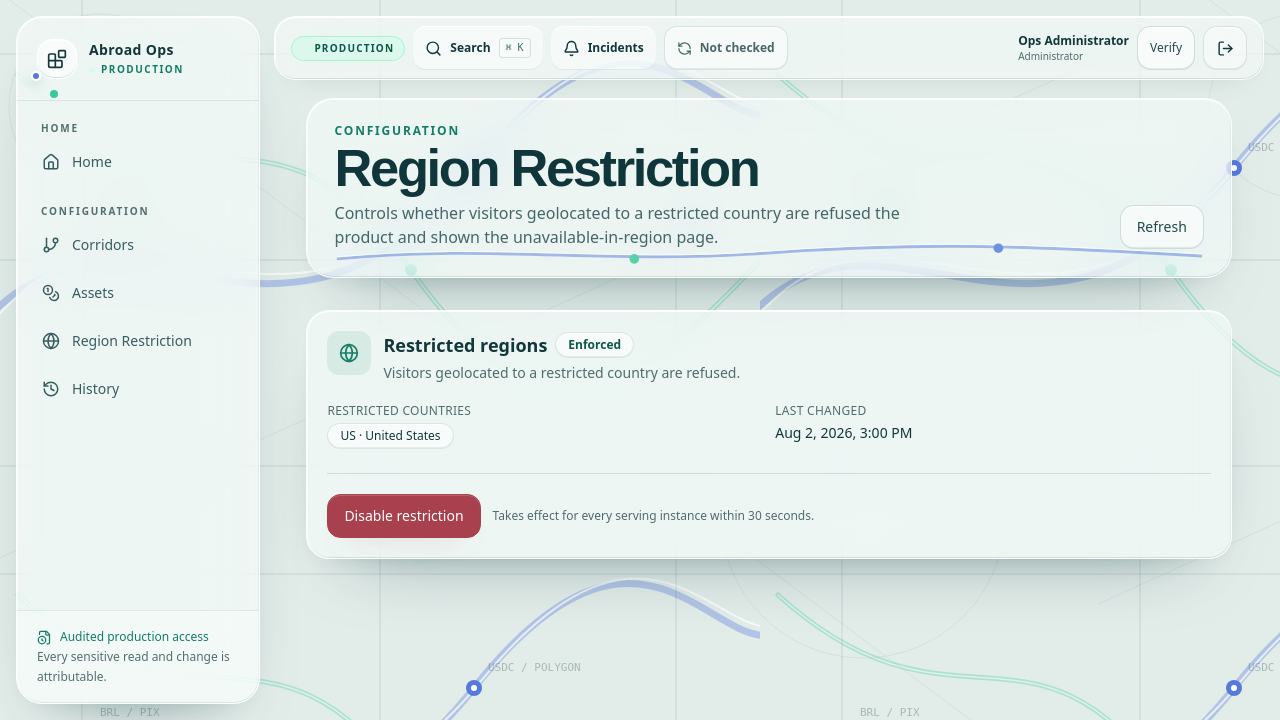
GeoRestriction page › disables an enforced restriction and sends the loaded version
The width and height of the screenshot is (1280, 720).
Expected: the text "Enforced" is shown, [555,332,634,358]
Click the button "Disable restriction" at [404, 516], box [327,494,481,538]
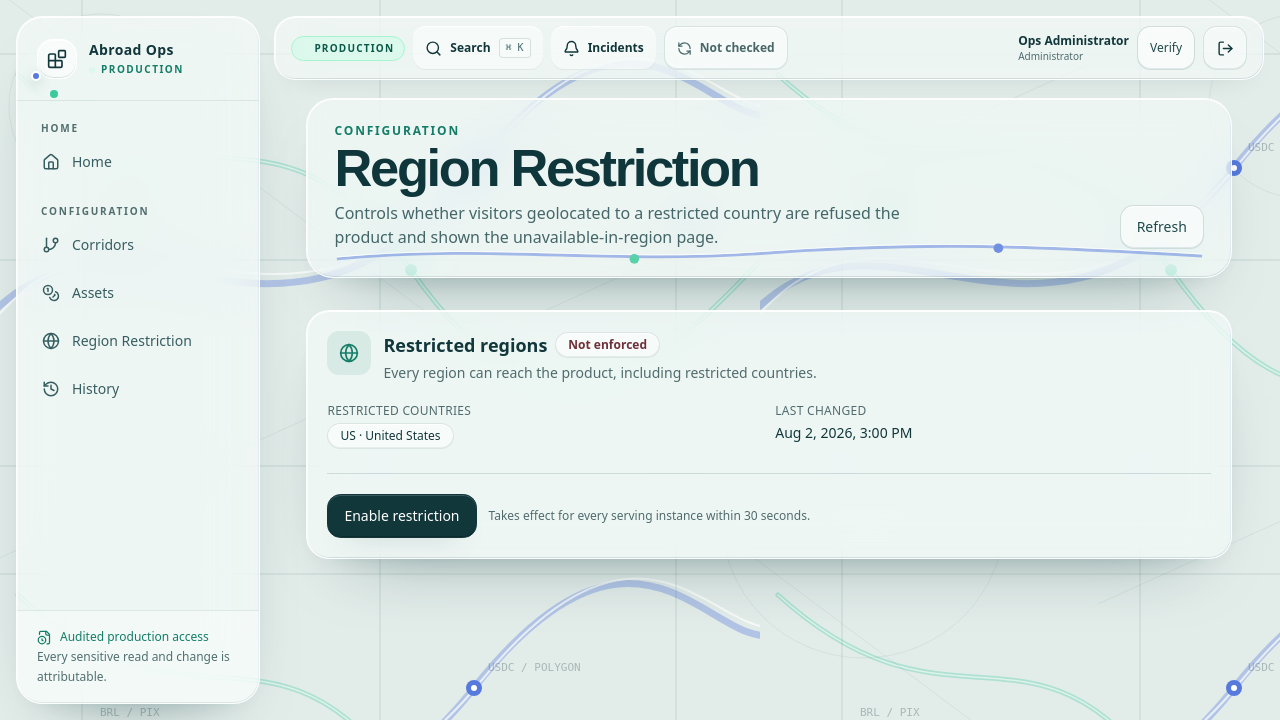
Expected: the text "Not enforced" is shown, [555,332,660,358]
Expected: the button "Enable restriction" is shown, [327,494,476,538]
